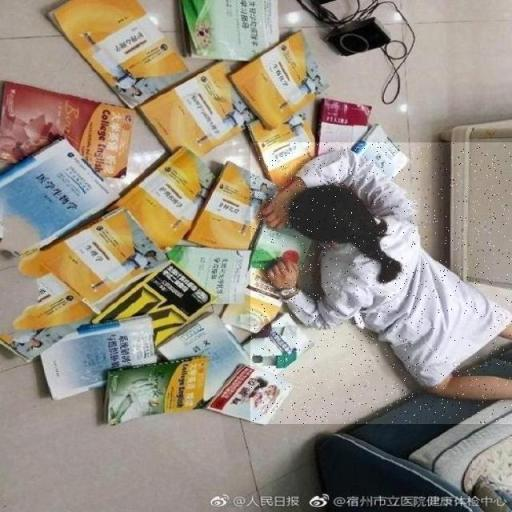Fall: (250, 142, 512, 424)
